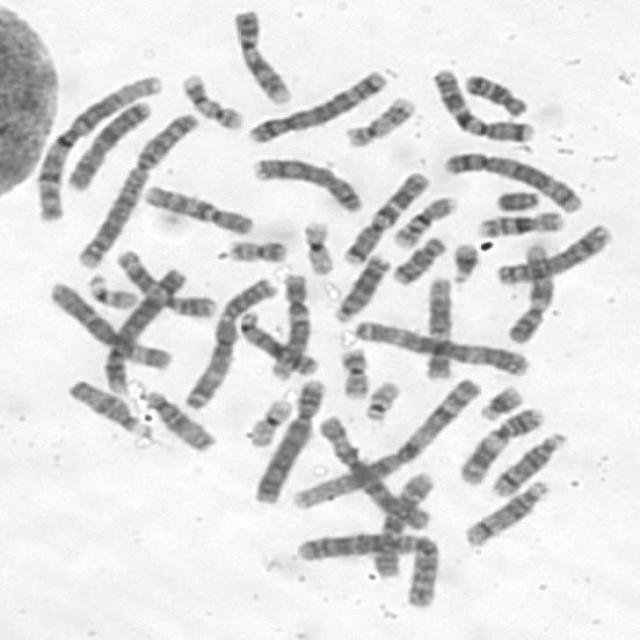A1: (286, 374, 484, 511), (30, 72, 160, 225)
A2: (70, 109, 200, 269), (291, 527, 444, 610)
A3: (180, 273, 278, 410), (348, 316, 531, 377)
B4: (100, 262, 189, 393), (248, 375, 327, 505)
B5: (244, 67, 390, 145), (440, 148, 586, 215)
C10: (366, 468, 438, 578), (139, 180, 255, 237)
C11: (112, 246, 217, 319), (455, 405, 546, 487)
C12: (267, 269, 313, 383), (420, 272, 454, 382)
C6: (313, 411, 434, 532), (45, 277, 174, 371)
C7: (339, 168, 430, 266), (429, 65, 536, 145)
C8: (492, 221, 616, 287), (248, 154, 364, 215)
C9: (230, 6, 294, 106), (503, 241, 557, 345)
D13: (235, 310, 320, 376), (329, 250, 392, 323)
D14: (459, 477, 552, 547), (488, 429, 567, 497)
D15: (64, 377, 148, 437), (142, 388, 219, 453)
E16: (388, 192, 461, 250), (473, 208, 567, 238)
E17: (341, 94, 417, 149), (178, 70, 245, 131)
E18: (461, 70, 530, 119), (387, 233, 449, 287)
F19: (243, 395, 296, 448), (299, 217, 338, 276)
F20: (335, 345, 372, 402), (221, 235, 291, 264)
G21: (476, 382, 526, 421), (448, 239, 480, 286)
G22: (83, 271, 138, 311), (361, 377, 402, 422)
X: (60, 94, 154, 192)
Y: (493, 188, 541, 212)
